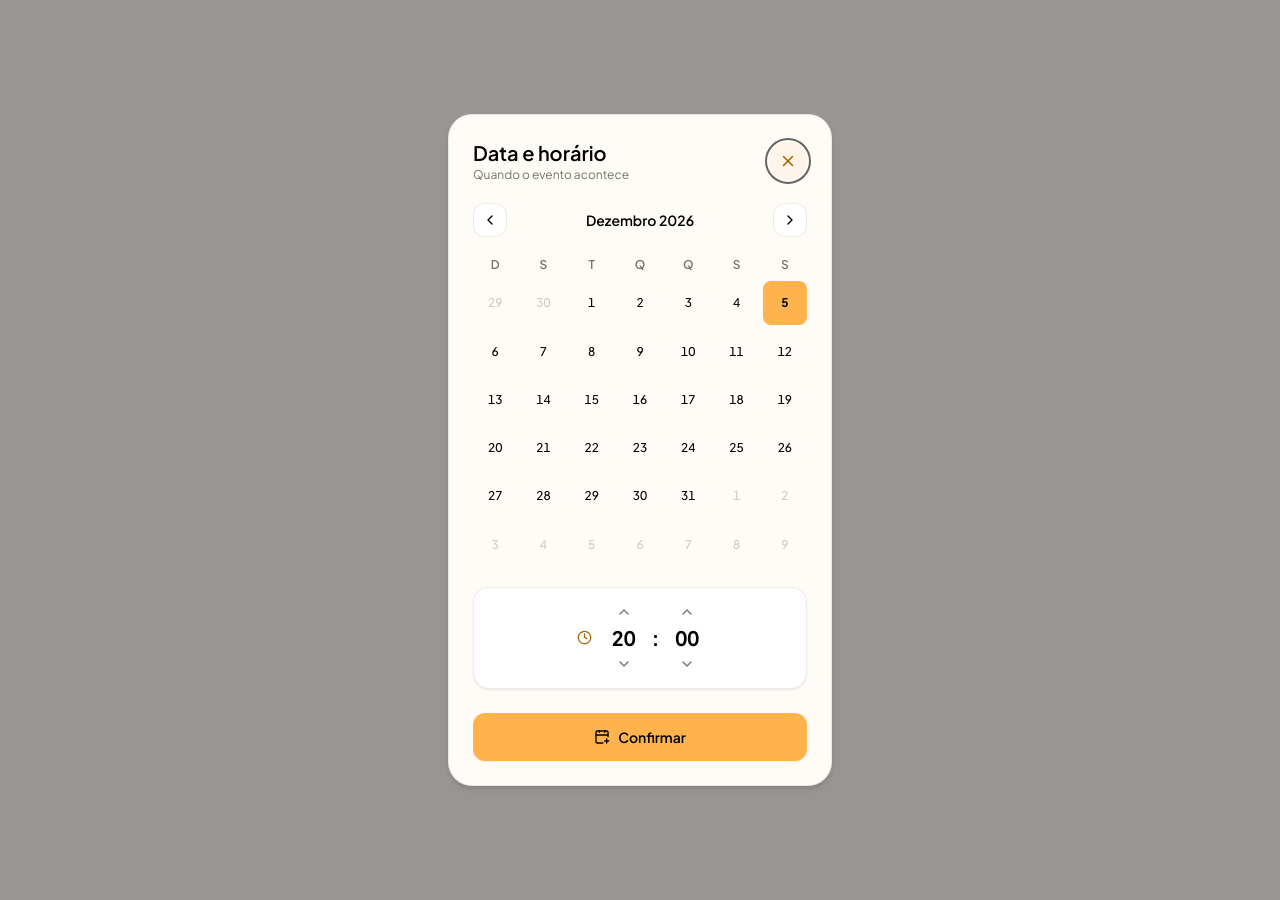
Test: DateTimePickerModal › navega entre meses sem pular (dezembro -> janeiro do ano seguinte)
Expected: the text "Dezembro 2026" is shown, [586,210,694,230]
Click the button named "Próximo mês" at (790, 220), box [773,203,807,237]
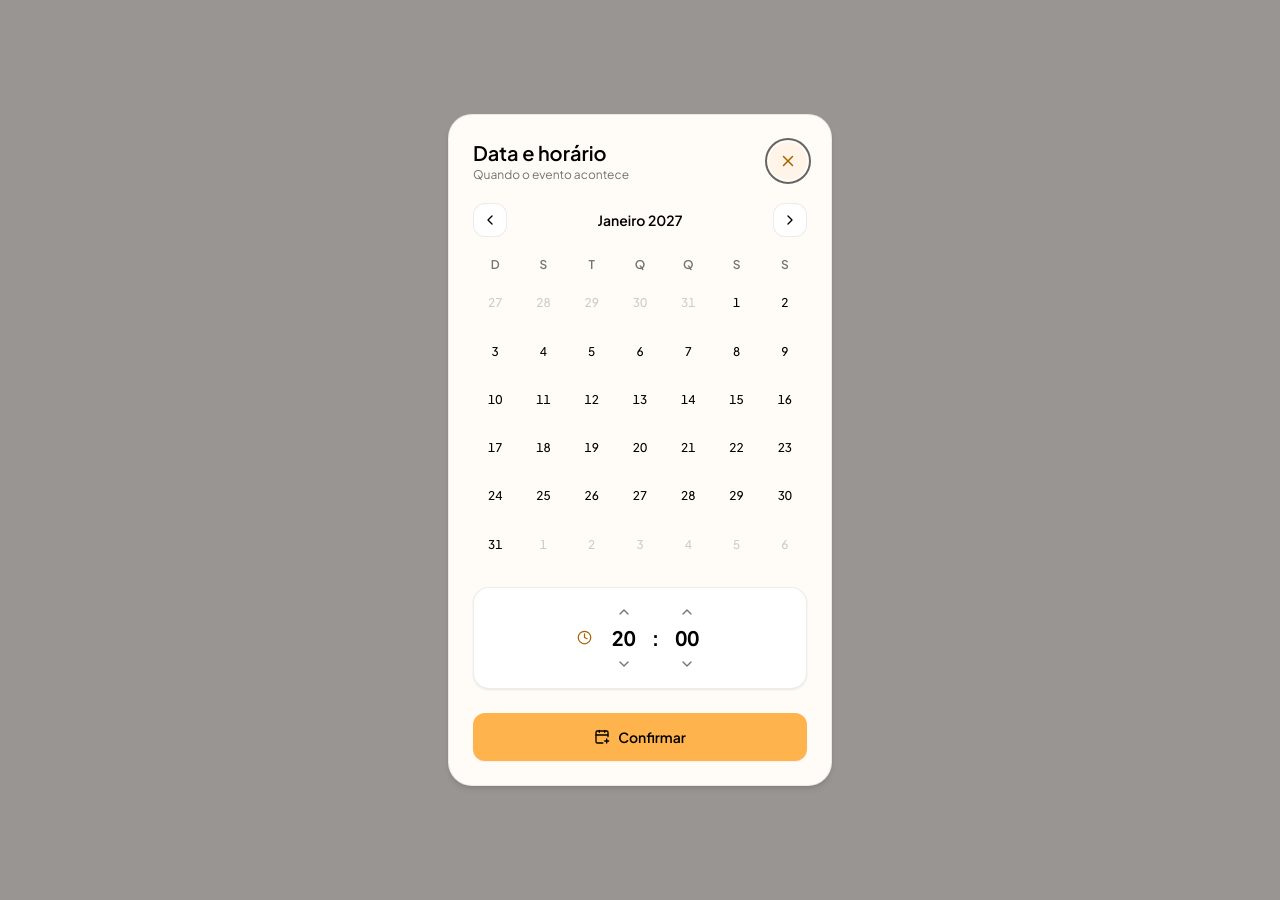
Expected: the text "Janeiro 2027" is shown, [598,210,682,230]
Click the button named "Mês anterior" at (490, 220), box [473,203,507,237]
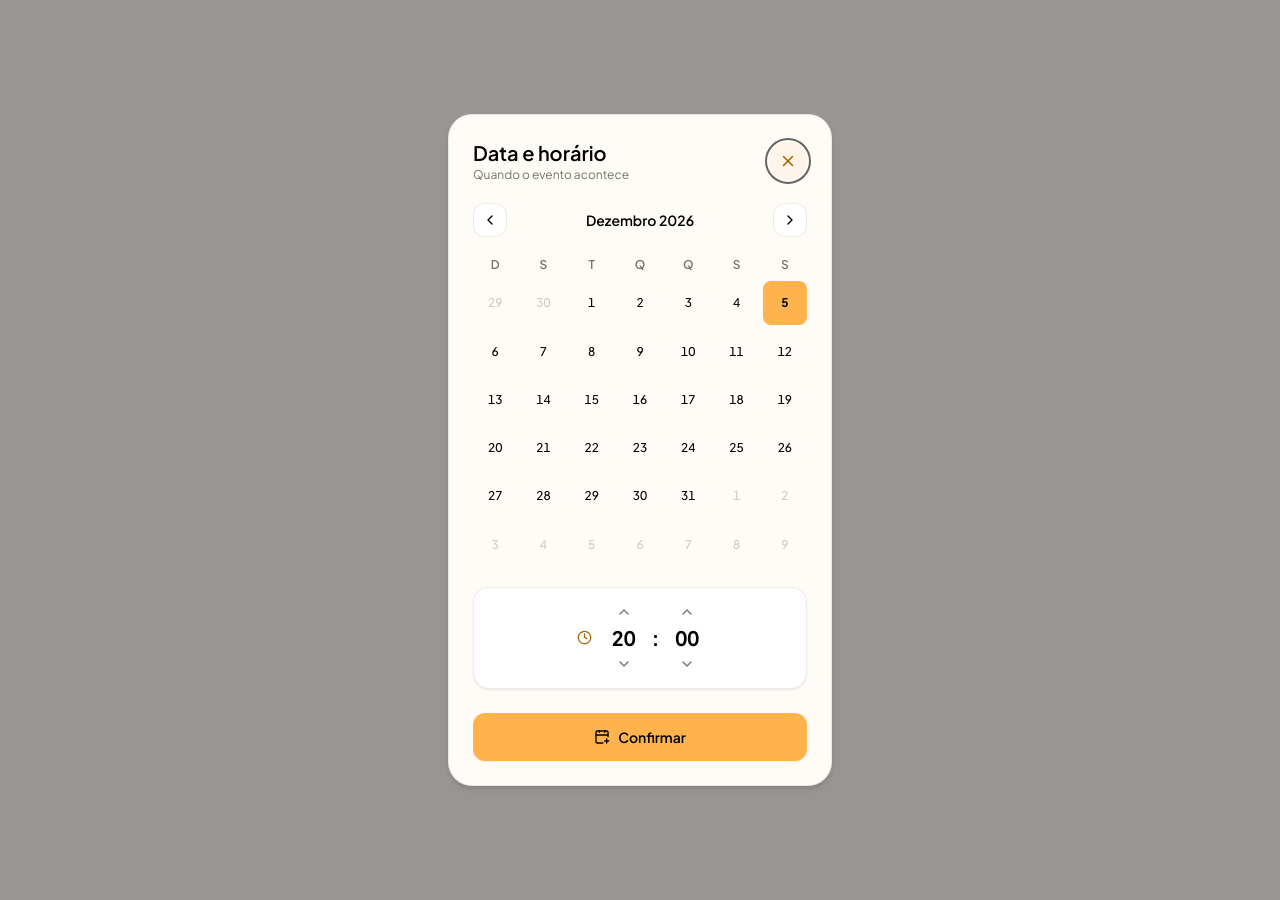
Expected: the text "Dezembro 2026" is shown, [586,210,694,230]
